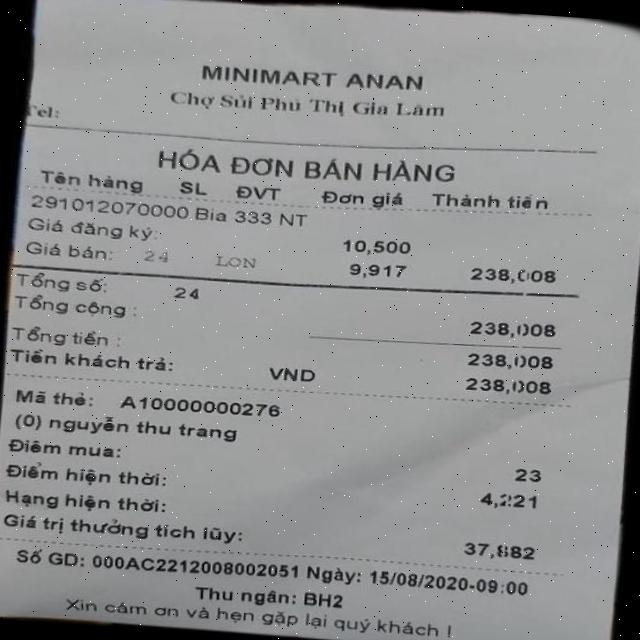Date: (370, 564, 470, 598)
Store_Name: (152, 34, 452, 105)
amount_number: (466, 316, 561, 346)
label_total: (9, 287, 142, 326)
